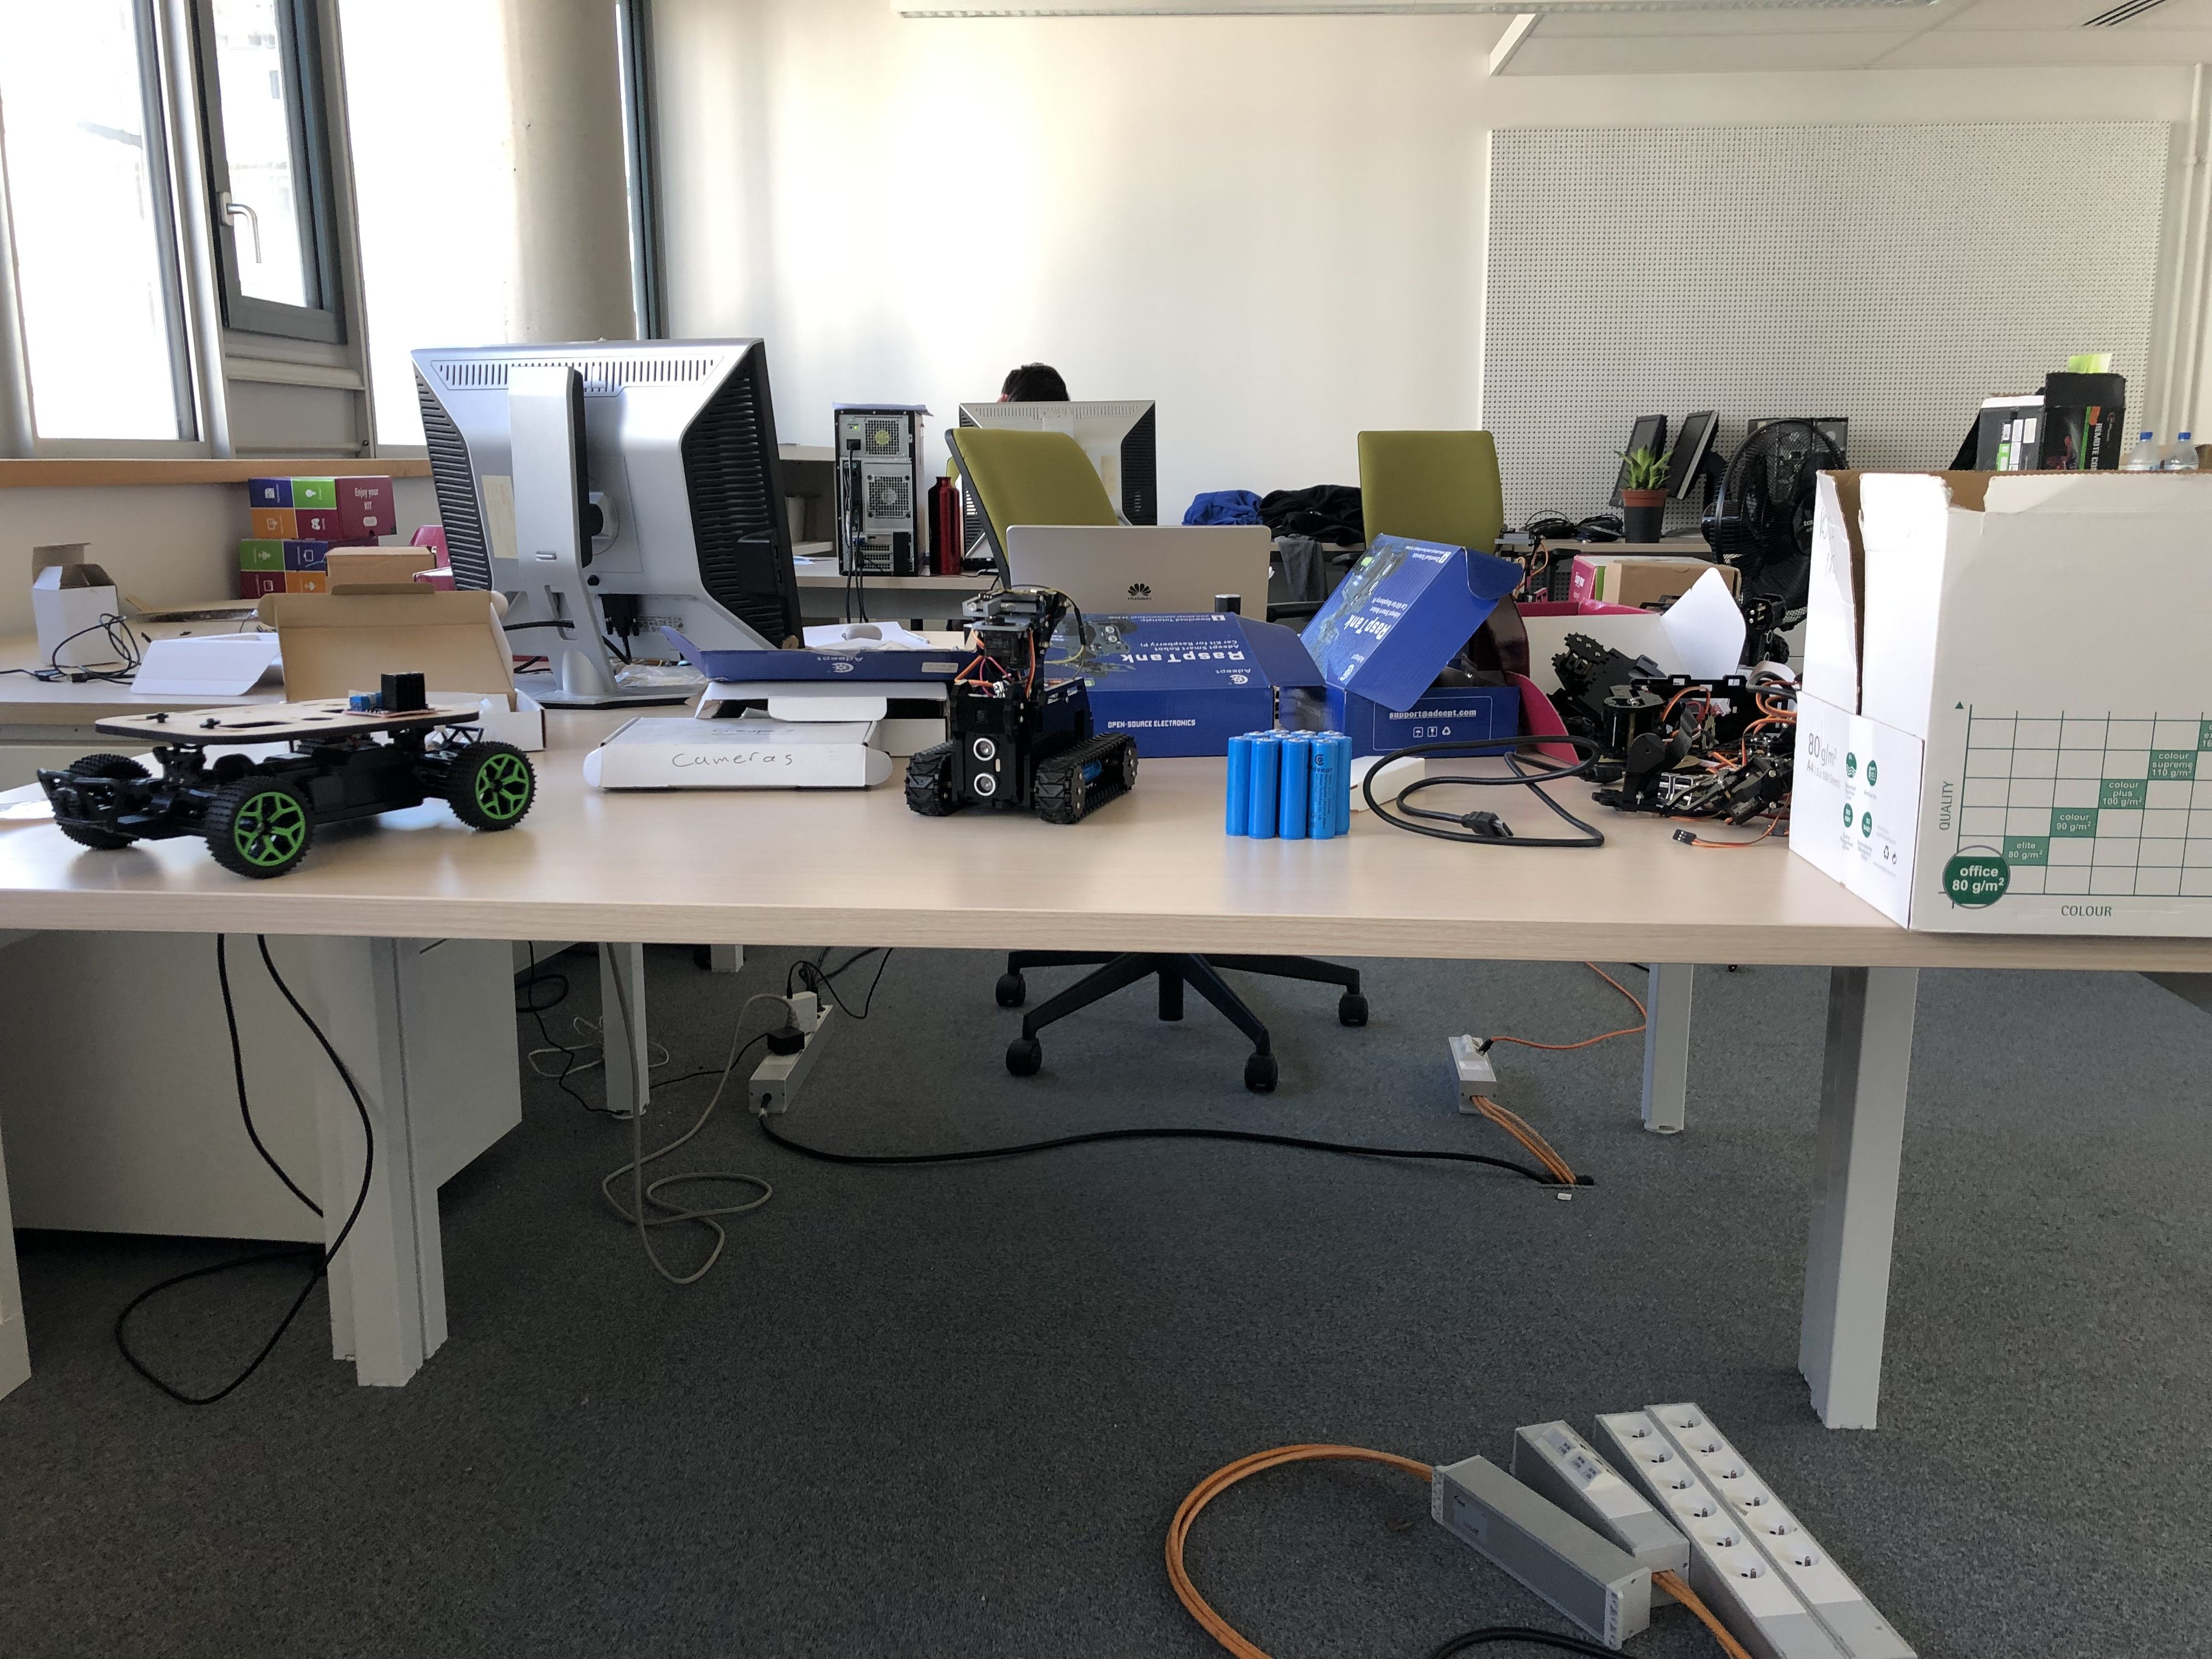rasptank: (897, 589, 1148, 826)
